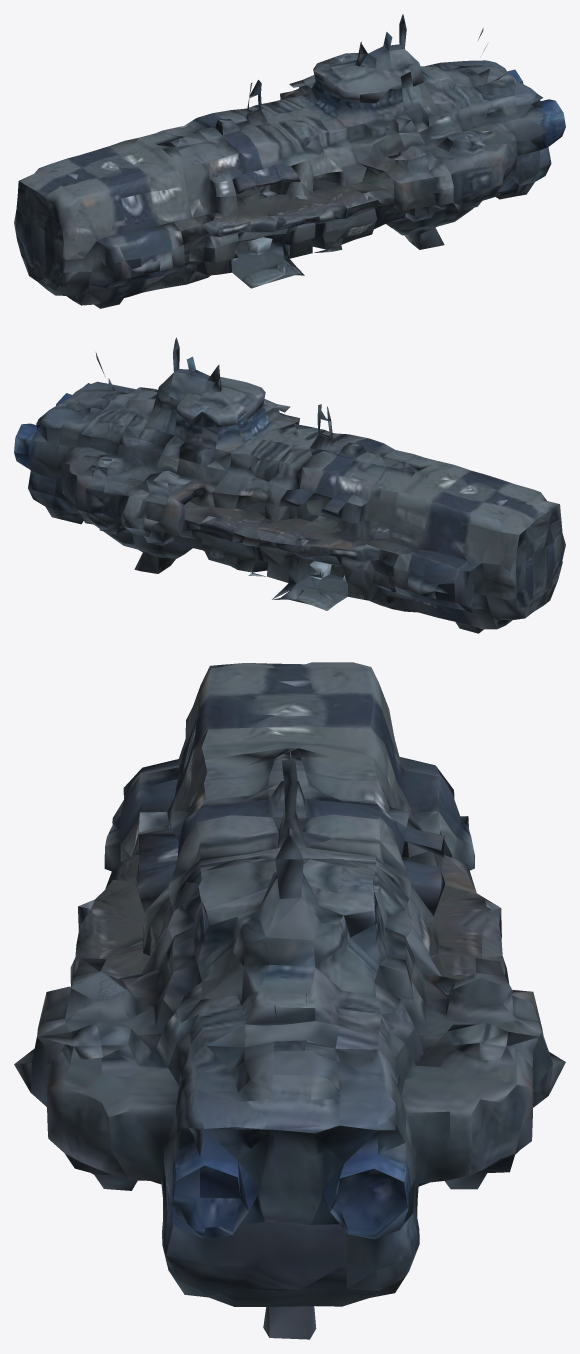
Rendered from edf_carrier_lo.glb.
3 renders of one model, top to bottom at view 1: azimuth 30°, elevation 25°; view 2: azimuth 150°, elevation 25°; view 3: azimuth 270°, elevation 25°, orthographic. The views are drawn at different scales.
Parts seen in each view (by area): view 1: model; view 2: model; view 3: model.
Boxes of the visible parts, x1,y1,x2,y2 form: model: [14, 14, 565, 308]; model: [14, 337, 565, 633]; model: [14, 662, 565, 1339].
Size of the model in its own units: 0.992 by 0.4517 by 0.4806.
Materials: 1 (1 with a texture image).
